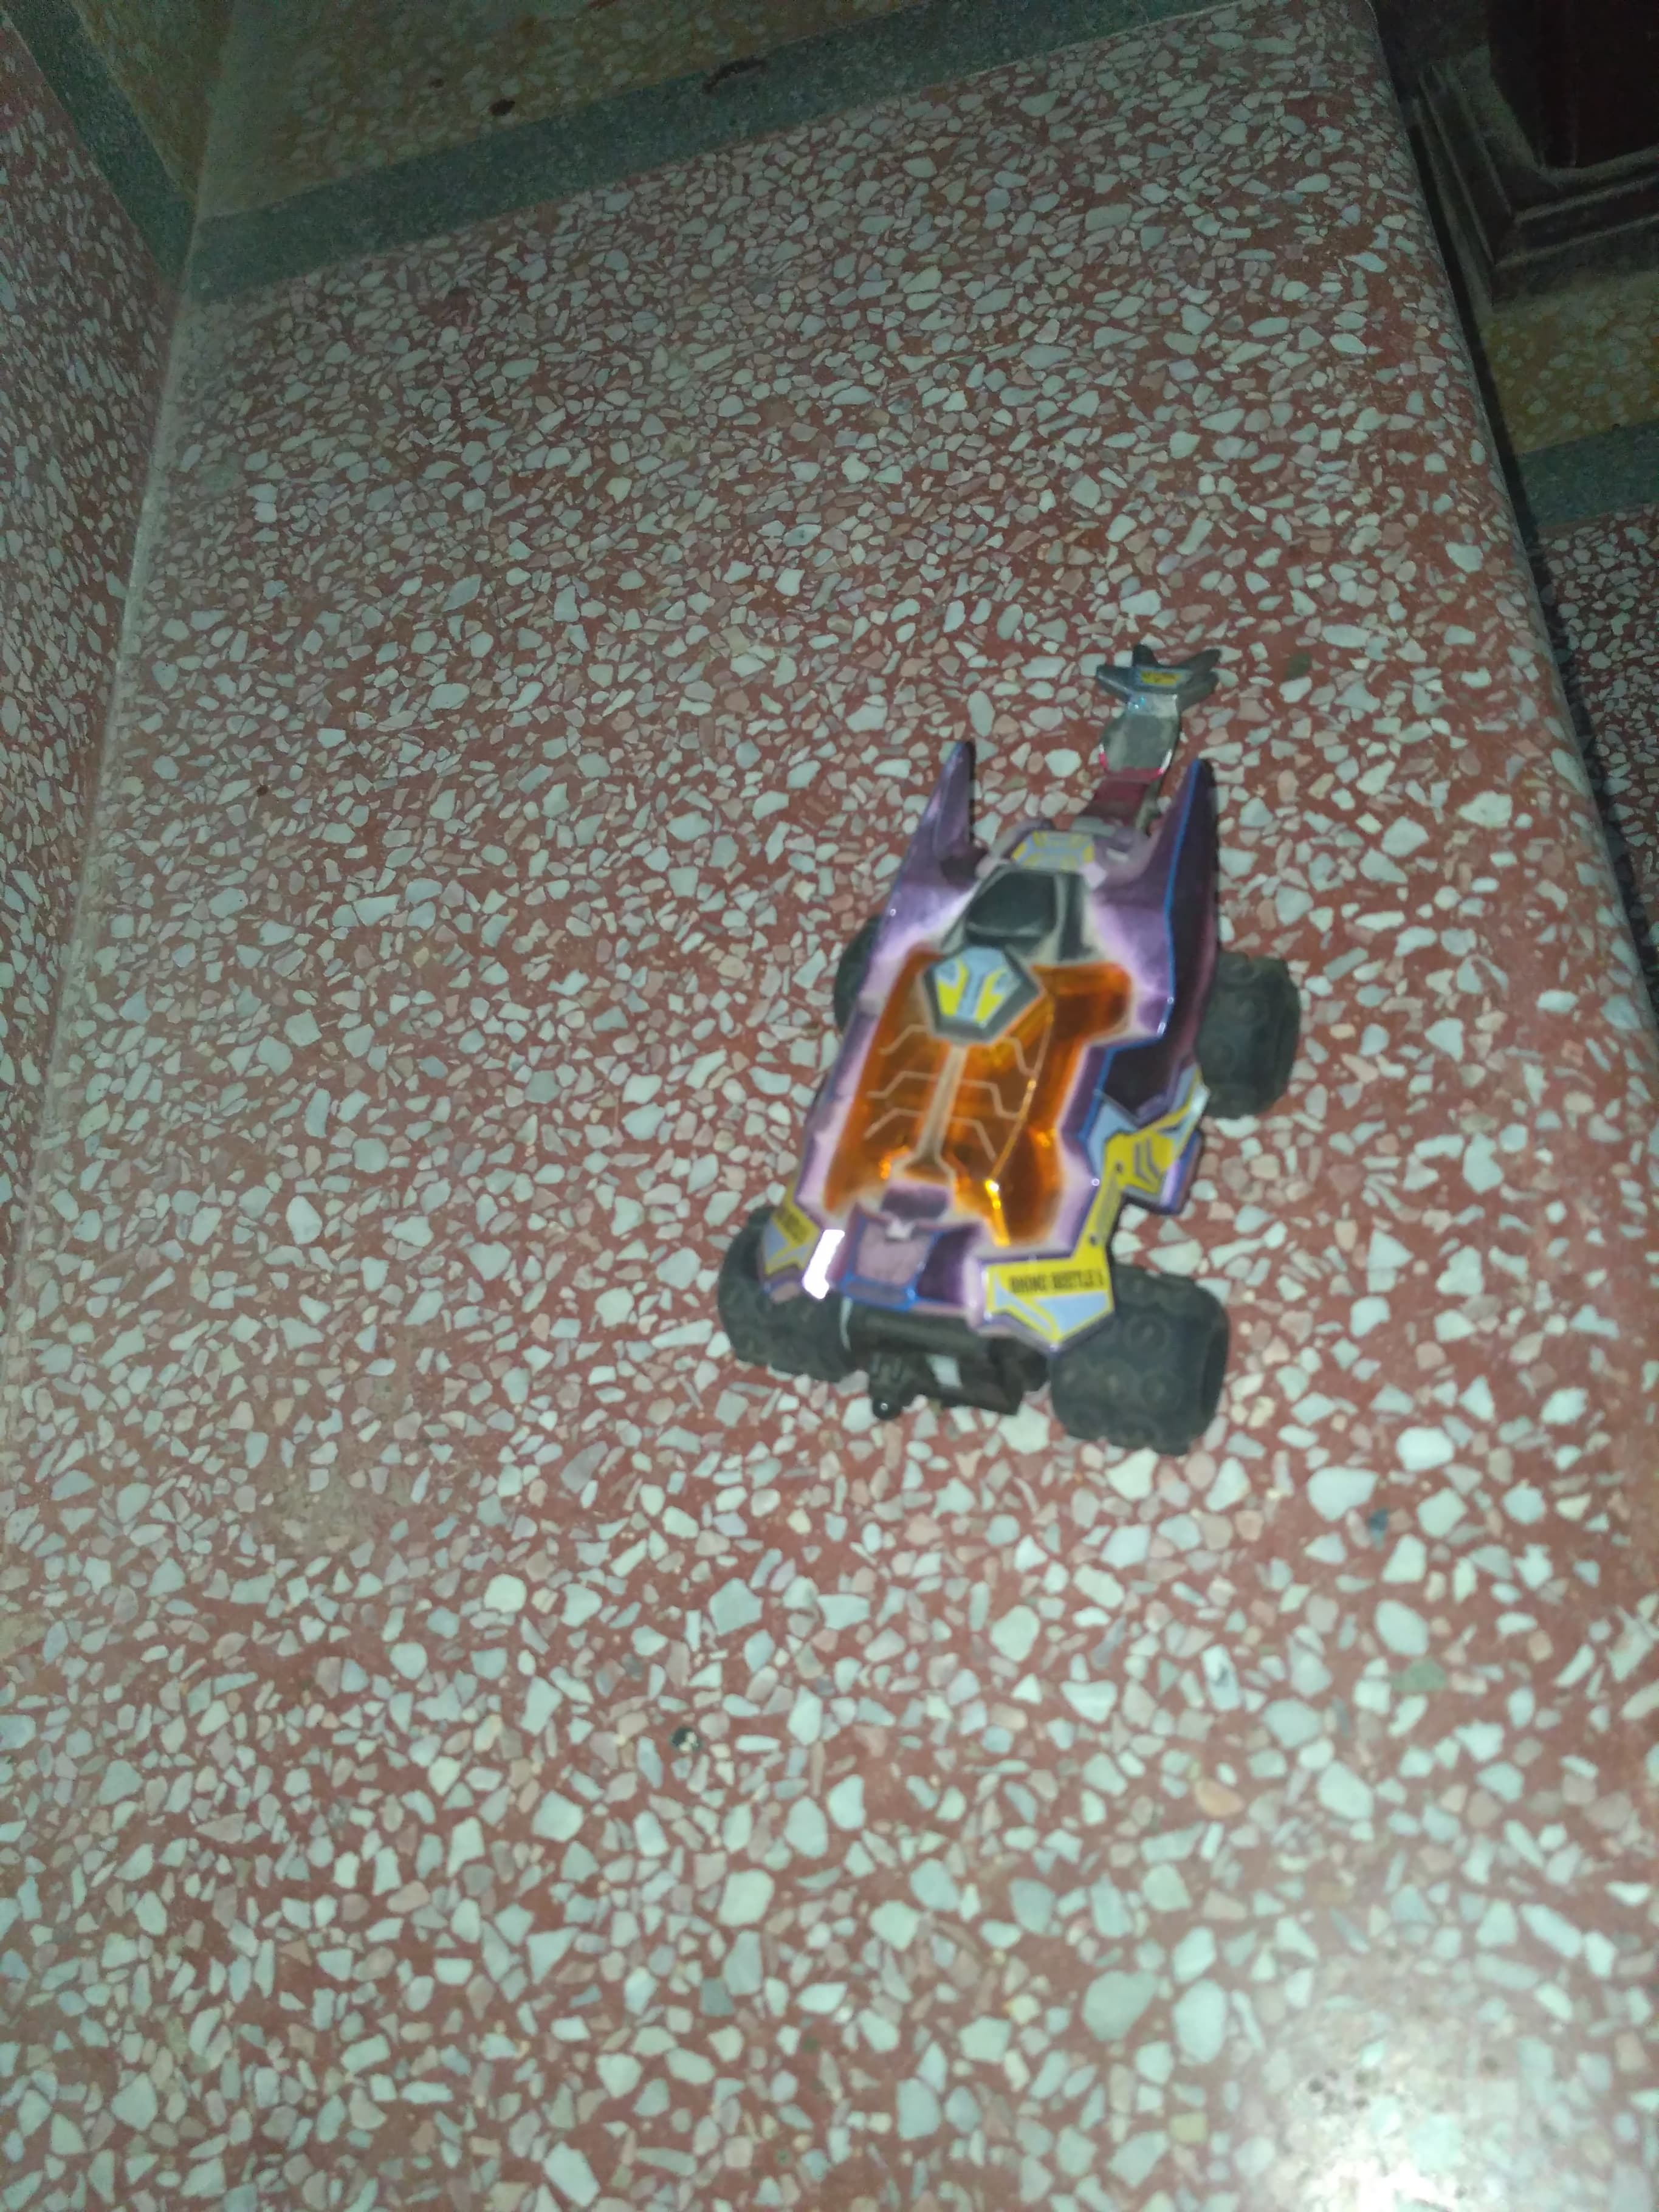rhino: (706, 636, 1303, 1465)
